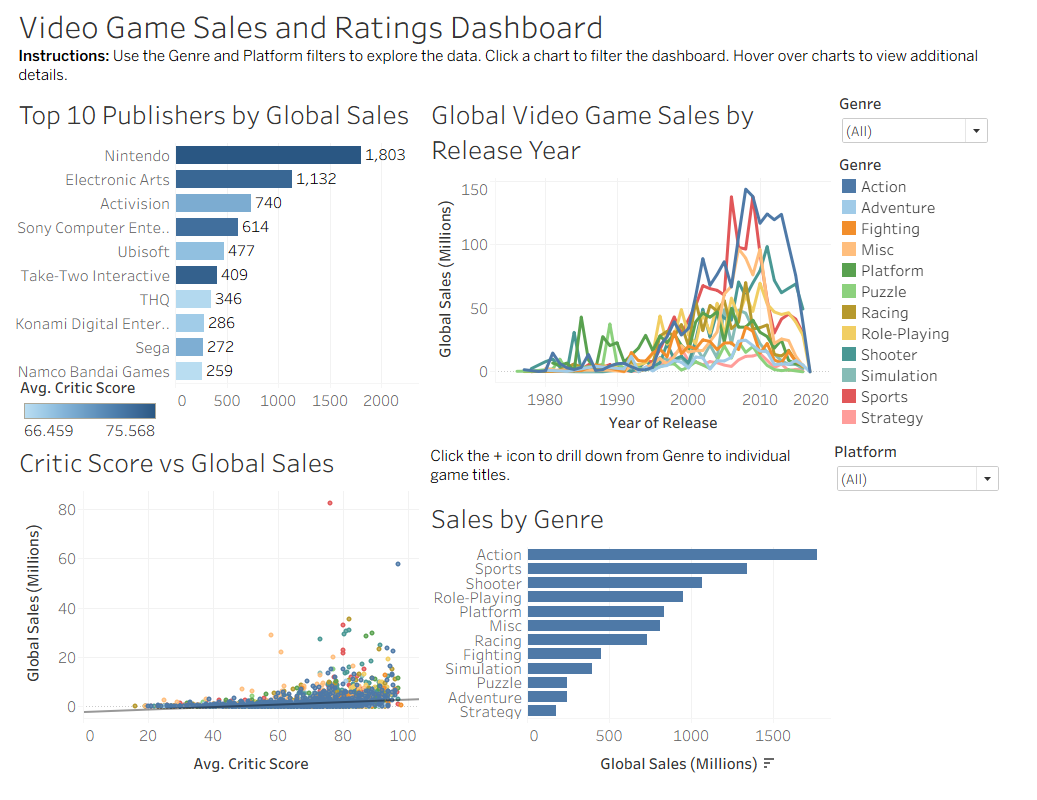

Layout of this report page (visuals, bound fields, positions):
{"tool":"tableau","page":{"name":"Video Game Sales and Ratings Dashboard","canvas":[1000,800],"ordinal":0},"visuals":[{"type":"title","box":[8,8,984,88]},{"type":"worksheet","title":"Top 10 Publishers by Global Sales","mark":"Automatic","rows":["Publisher"],"cols":["Global_Sales"],"box":[8,96,412,348]},{"type":"worksheet","title":"Global Video Game Sales by Release Year ","mark":"Automatic","rows":["Global_Sales"],"cols":["Year_of_Release"],"box":[420,96,412,348]},{"type":"filter","title":"Global Video Game Sales by Release Year ","param":"[federated.1t0llfk0x4dk550zu6uf804rdfxx].[none:Genre:nk]","box":[832,96,160,61]},{"type":"legend","title":"Global Video Game Sales by Release Year ","param":"[federated.1t0llfk0x4dk550zu6uf804rdfxx].[none:Genre:nk]","box":[832,157,160,282]},{"type":"legend","title":"Top 10 Publishers by Global Sales","param":"[federated.1t0llfk0x4dk550zu6uf804rdfxx].[avg:Critic_Score:qk]","box":[17,384,140,88]},{"type":"worksheet","title":"Critic Score vs Global Sales","mark":"Automatic","rows":["Global_Sales"],"cols":["Critic_Score"],"box":[8,444,412,348]},{"type":"text","box":[420,444,412,56]},{"type":"filter","title":"Sales by Genre","param":"[federated.1t0llfk0x4dk550zu6uf804rdfxx].[none:Platform:nk]","box":[831,448,168,61]},{"type":"worksheet","title":"Sales by Genre","mark":"Automatic","rows":["Genre"],"cols":["Global_Sales"],"box":[420,500,412,292]}]}

Visuals, with their boxes on the page's 1000x800 design canvas (x1, y1, x2, y2). These are canvas units, not pixel positions in the 1037x800 screenshot, which may show the page scaled, cropped or inside an application window:
title: BBox(8, 8, 992, 96)
"Top 10 Publishers by Global Sales" worksheet: BBox(8, 96, 420, 444)
"Global Video Game Sales by Release Year " worksheet: BBox(420, 96, 832, 444)
"Global Video Game Sales by Release Year " filter: BBox(832, 96, 992, 157)
"Global Video Game Sales by Release Year " legend: BBox(832, 157, 992, 439)
"Top 10 Publishers by Global Sales" legend: BBox(17, 384, 157, 472)
"Critic Score vs Global Sales" worksheet: BBox(8, 444, 420, 792)
text: BBox(420, 444, 832, 500)
"Sales by Genre" filter: BBox(831, 448, 999, 509)
"Sales by Genre" worksheet: BBox(420, 500, 832, 792)
